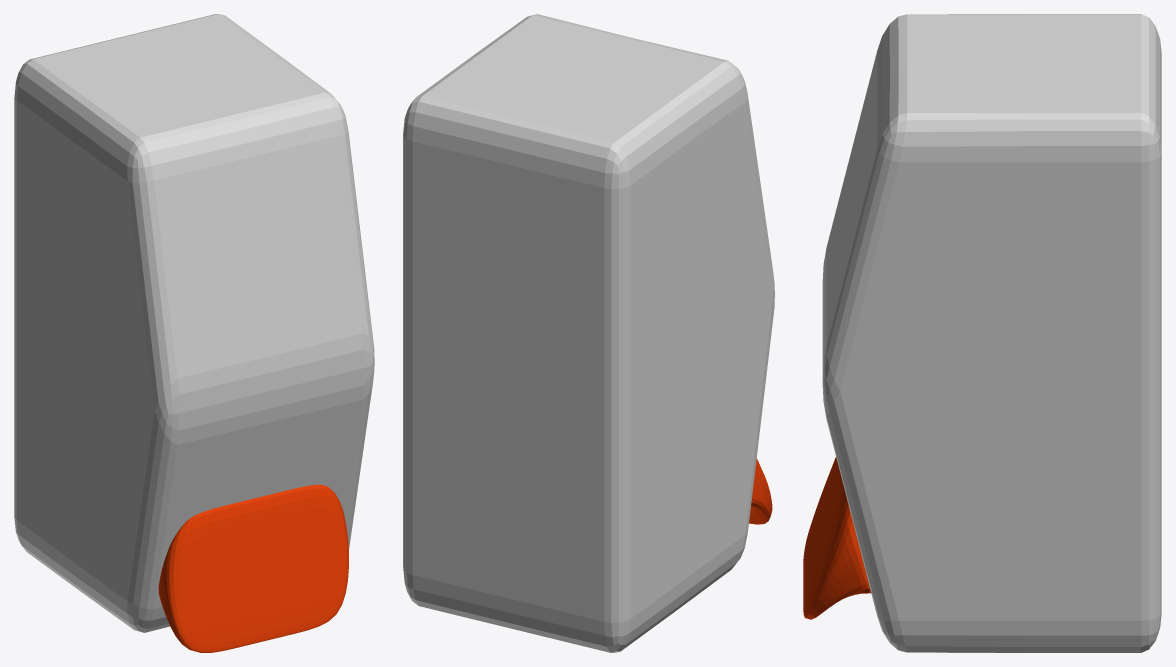
File: HandProtection.fbx
3 views of the same model, side by side, from view 1: azimuth 30°, elevation 25°; view 2: azimuth 150°, elevation 25°; view 3: azimuth 270°, elevation 25° (orthographic). The views are drawn at different scales.
Parts seen in each view (by area): view 1: HandProtection, Cube.002; view 2: HandProtection, Cube.002; view 3: HandProtection, Cube.002.
Part boxes in pixels (bbox=[...]): HandProtection: bbox=[14, 14, 374, 632]; Cube.002: bbox=[158, 484, 348, 652]; HandProtection: bbox=[403, 14, 774, 652]; Cube.002: bbox=[749, 458, 772, 524]; HandProtection: bbox=[822, 14, 1161, 652]; Cube.002: bbox=[803, 457, 870, 619].
Size of the model in its own units: 17.78 by 23.17 by 38.47.
